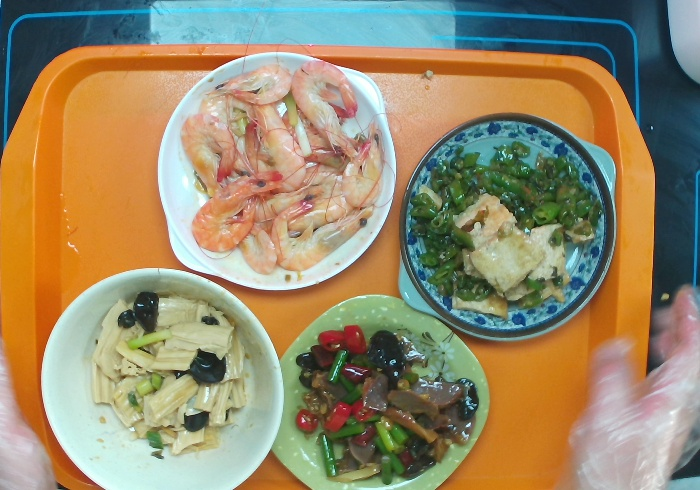NLDX-Bai_Se_Shuang_Er_Die: (157, 52, 399, 292)
NLDX-Bai_Se_Yuan_Wan: (41, 269, 286, 490)
NLDX-Lv_Hua_Fang_Die: (267, 296, 491, 490)
NLDX-Qing_Hua_Shuang_Er_Die: (396, 109, 616, 341)
